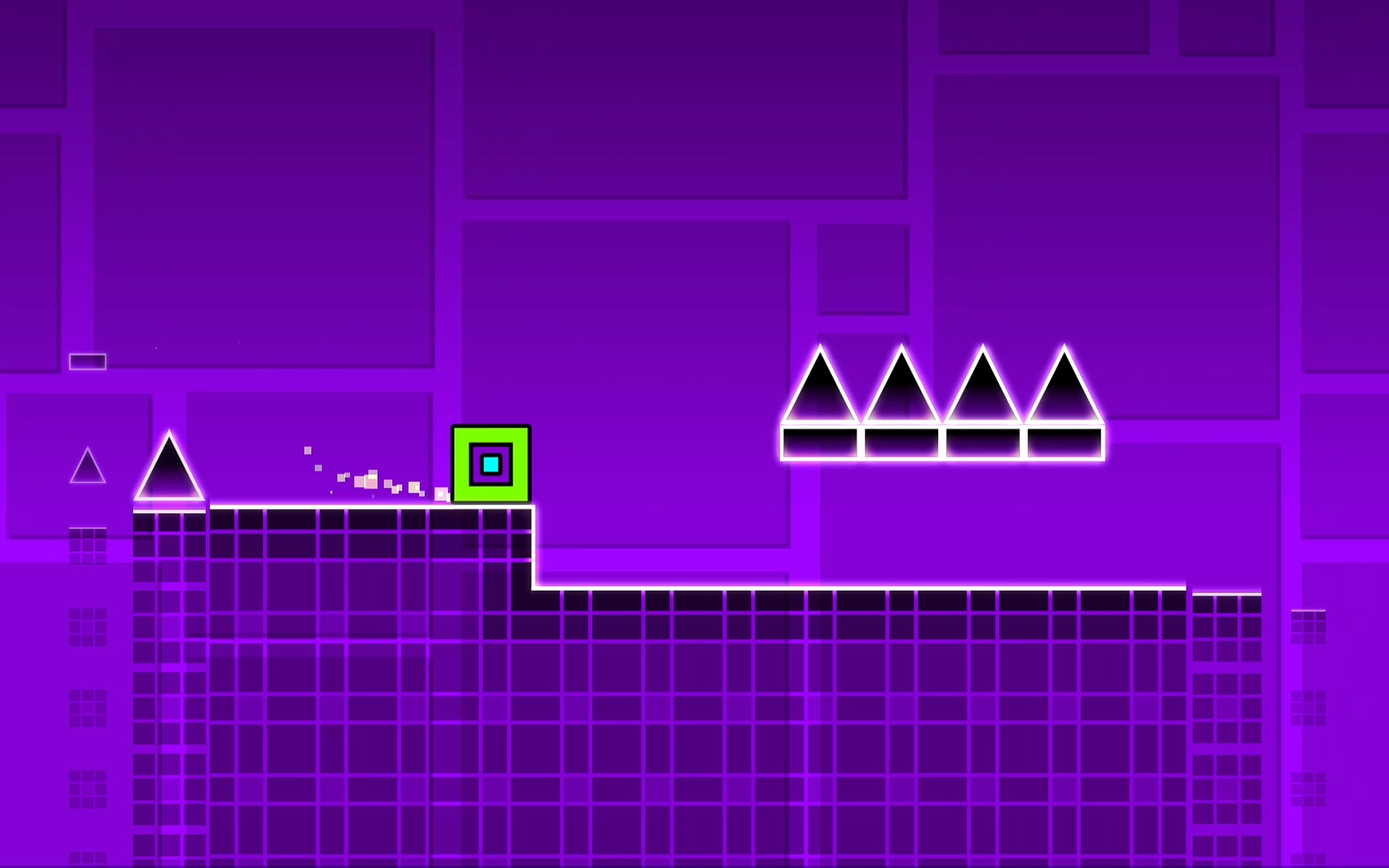Block2: (533, 588, 1328, 868), (124, 503, 531, 868)
Block3: (1026, 420, 1105, 463), (945, 423, 1021, 461), (863, 430, 940, 461), (783, 428, 863, 457), (69, 352, 107, 370)
Player: (449, 424, 530, 502)
Spike: (783, 346, 856, 421), (866, 344, 938, 419), (1028, 346, 1101, 419), (947, 346, 1018, 421), (136, 432, 207, 501), (69, 445, 107, 483)
